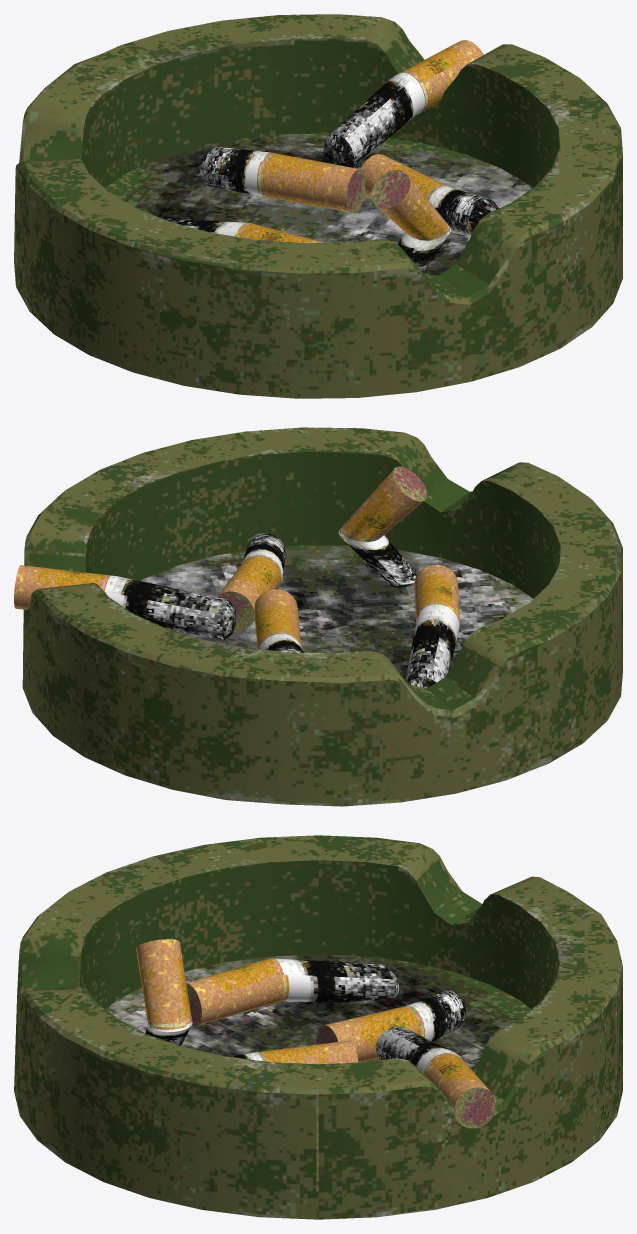
Rendered from AshTray.fbx.
The picture shows the model from 3 angles, top to bottom: view 1: azimuth 30°, elevation 25°; view 2: azimuth 150°, elevation 25°; view 3: azimuth 270°, elevation 25°; orthographic projection.
Visible parts, largest first — view 1: Cylinder.034; view 2: Cylinder.034; view 3: Cylinder.034.
Boxes of the visible parts, x1=… form: Cylinder.034: x1=14, y1=14, x2=622, y2=398; Cylinder.034: x1=14, y1=427, x2=622, y2=806; Cylinder.034: x1=14, y1=835, x2=622, y2=1219.
Size of the model in its own units: 15 by 4.2 by 15.
Materials: 1 (1 with a texture image).
